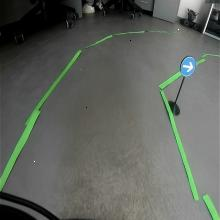right: (180, 55, 196, 77)
